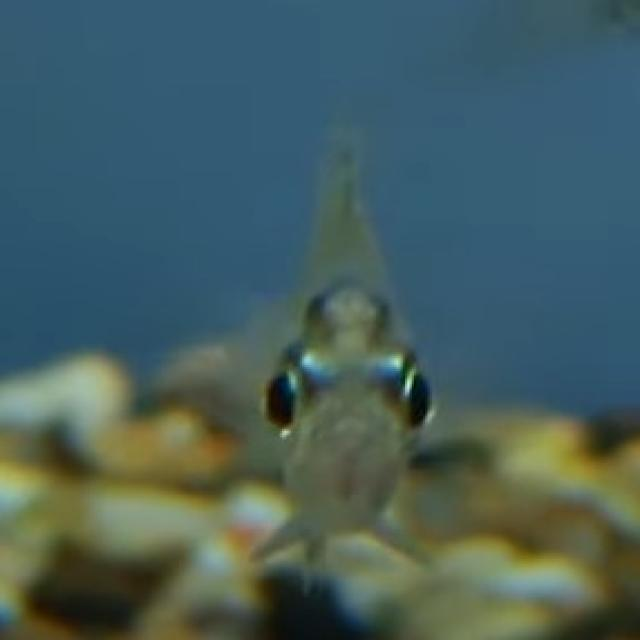Glass-Perchlet: (202, 90, 524, 607)
